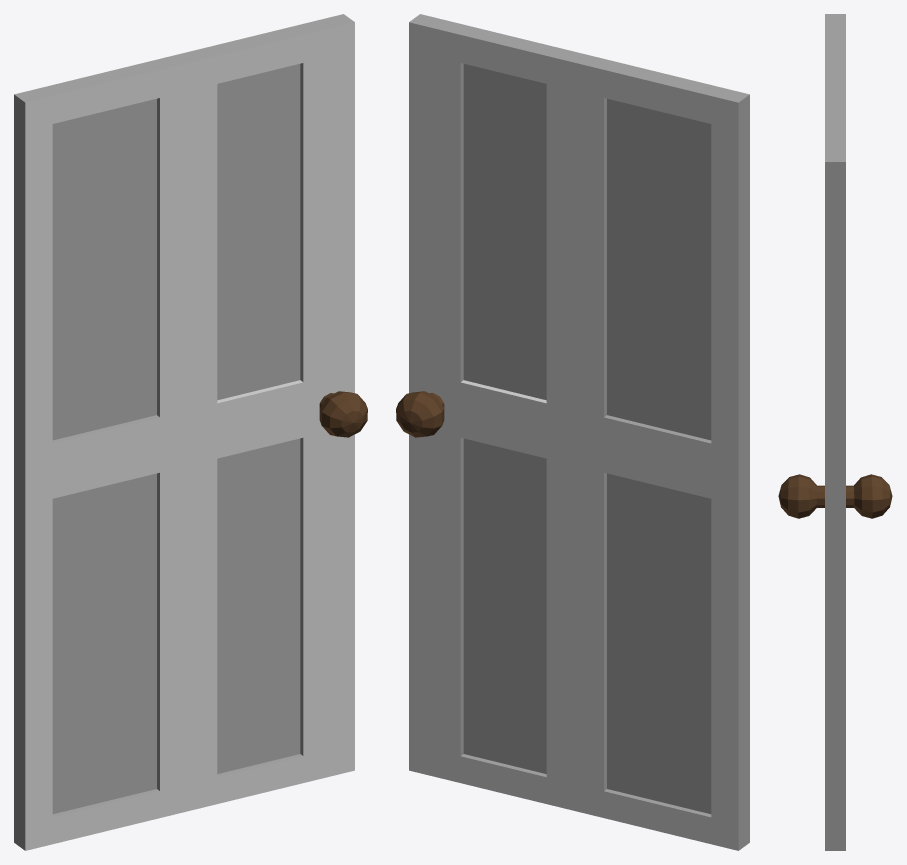
The model's file is Puerta.fbx.
3 views of the same model, side by side, from view 1: azimuth 30°, elevation 25°; view 2: azimuth 150°, elevation 25°; view 3: azimuth 270°, elevation 25° (orthographic). The views are drawn at different scales.
Parts seen in each view (by area): view 1: Puerta; view 2: Puerta; view 3: Puerta.
Part boxes in pixels (box(x1,y1,x2,y2)): Puerta: box(14, 14, 367, 850); Puerta: box(396, 14, 749, 850); Puerta: box(778, 14, 892, 850).
Size of the model in its own units: 228 by 495 by 74.27.
